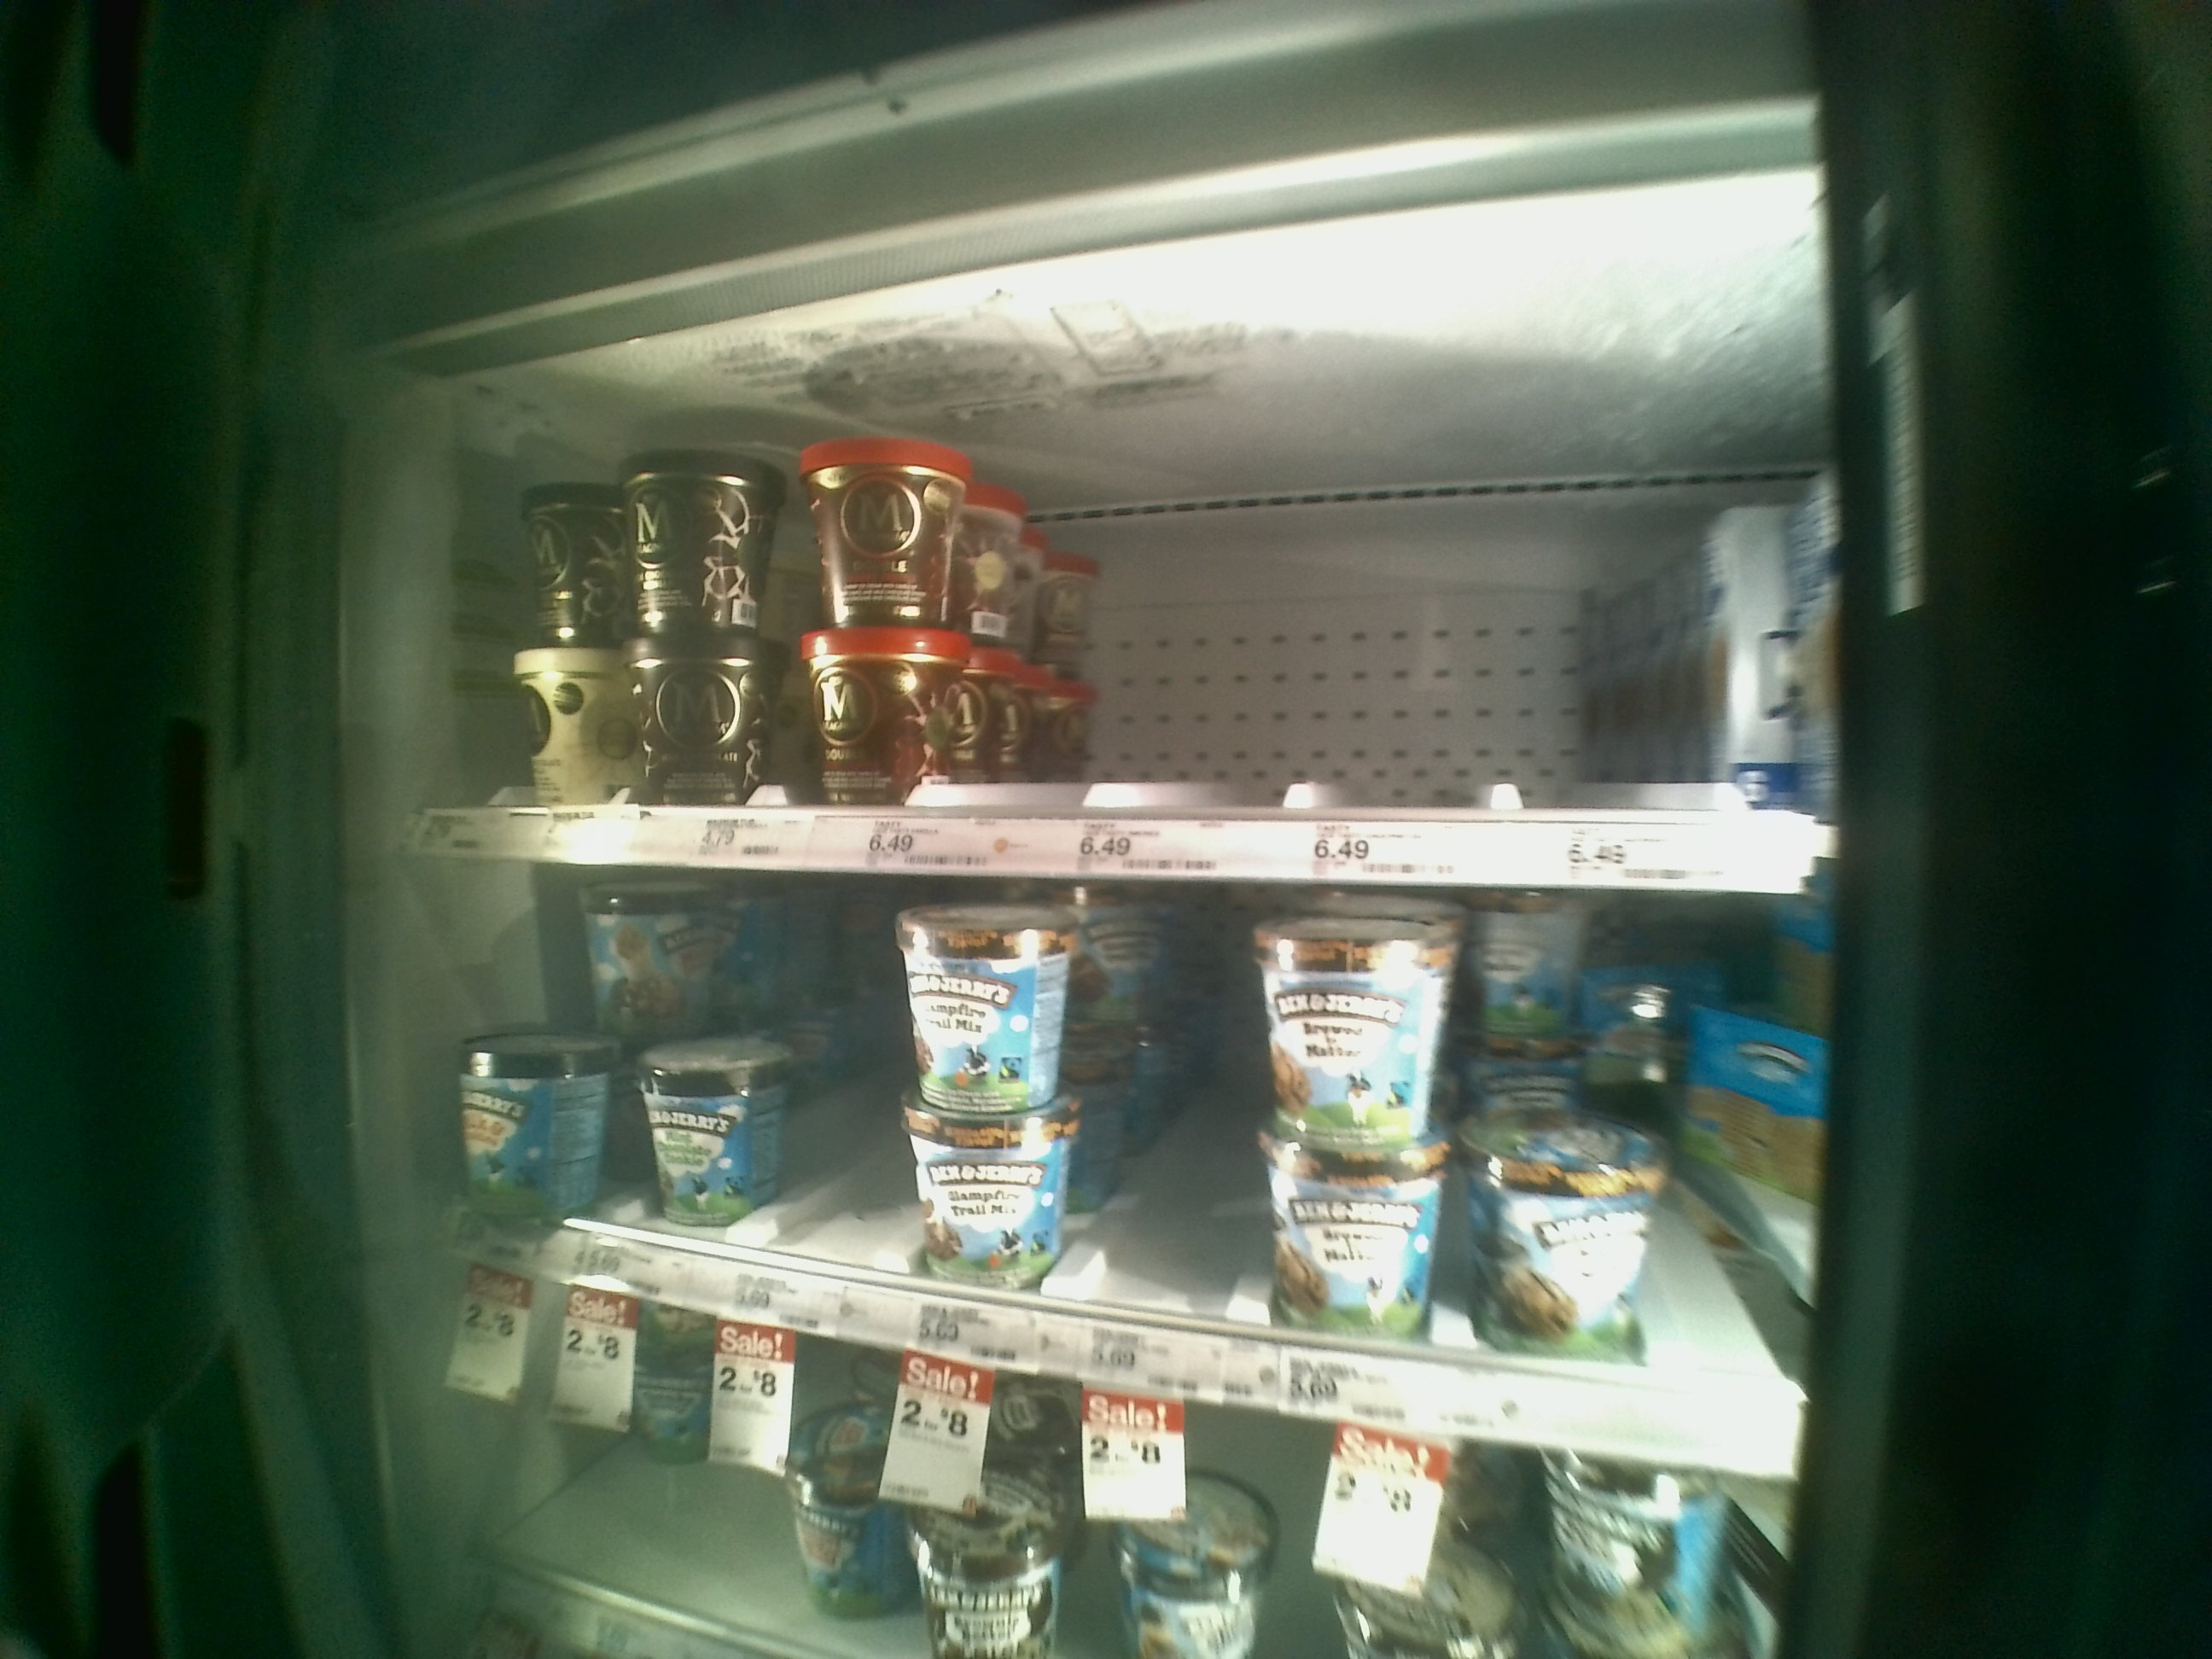shelf: (404, 871, 1811, 1499), (409, 305, 1846, 877)
